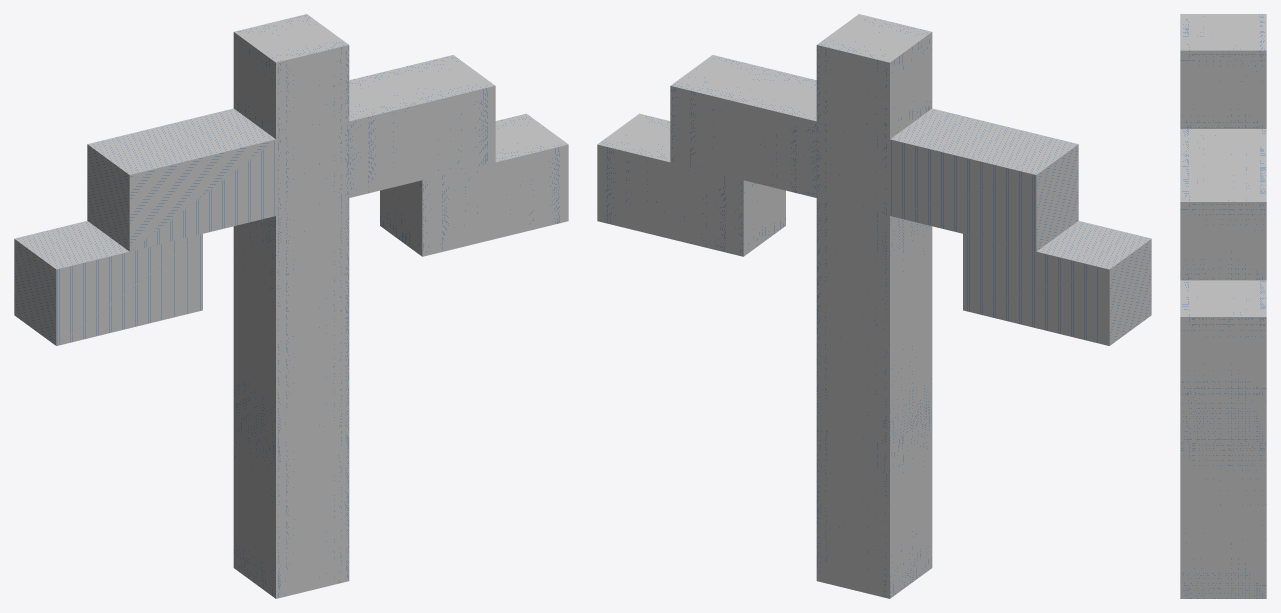
File: pickaxe.fbx
The picture shows the model from 3 angles, left to right: view 1: azimuth 30°, elevation 25°; view 2: azimuth 150°, elevation 25°; view 3: azimuth 270°, elevation 25°; orthographic projection. The views are drawn at different scales.
Parts seen in each view (by area): view 1: generated; view 2: generated; view 3: generated.
Part boxes in pixels (<box>): generated: <box>14,14,568,598</box>; generated: <box>597,14,1151,598</box>; generated: <box>1180,14,1266,598</box>.
Size of the model in its own units: 70 by 70 by 10.
Materials: 1 (1 with a texture image).
